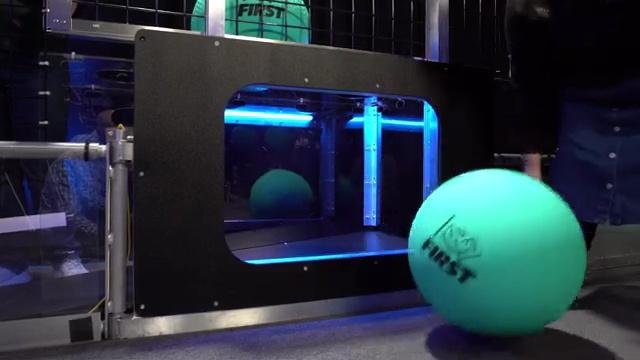ALGAE: (406, 166, 588, 337), (192, 0, 310, 45)
